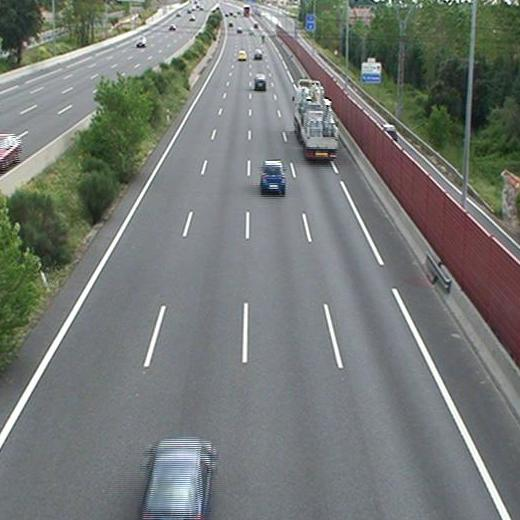car: (140, 440, 213, 520), (261, 161, 286, 190), (255, 74, 266, 90), (237, 50, 248, 60), (253, 49, 263, 58)
truck: (292, 80, 337, 159)
